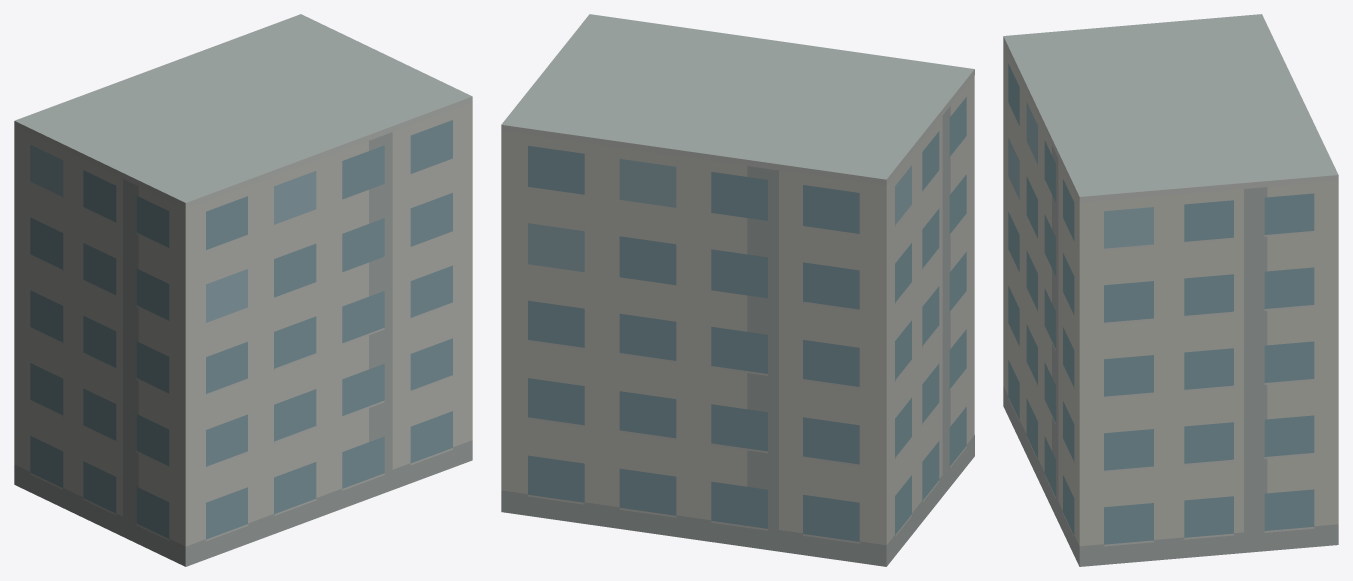
Rendered from residential-9b6514dd-cc73-4743-807f-20ce33b94636.glb.
3 views of the same model, side by side, from view 1: azimuth 30°, elevation 25°; view 2: azimuth 150°, elevation 25°; view 3: azimuth 270°, elevation 25° (orthographic). The views are drawn at different scales.
Parts seen in each view (by area): view 1: residential-9b6514dd-cc73-4743-807f-20ce33b94636.tmp; view 2: residential-9b6514dd-cc73-4743-807f-20ce33b94636.tmp; view 3: residential-9b6514dd-cc73-4743-807f-20ce33b94636.tmp.
Part boxes in pixels (x1,y1,x2,y2): residential-9b6514dd-cc73-4743-807f-20ce33b94636.tmp: (14, 14, 472, 566); residential-9b6514dd-cc73-4743-807f-20ce33b94636.tmp: (501, 14, 974, 566); residential-9b6514dd-cc73-4743-807f-20ce33b94636.tmp: (1003, 14, 1338, 566).
Size of the model in its own units: 16.18 by 15.25 by 12.54.
